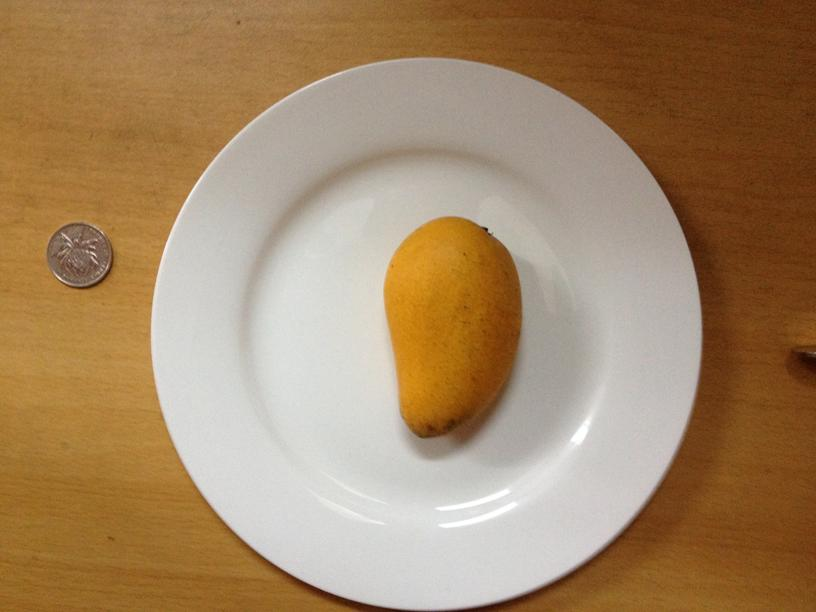coin: (45, 223, 112, 288)
mango: (382, 215, 521, 437)
